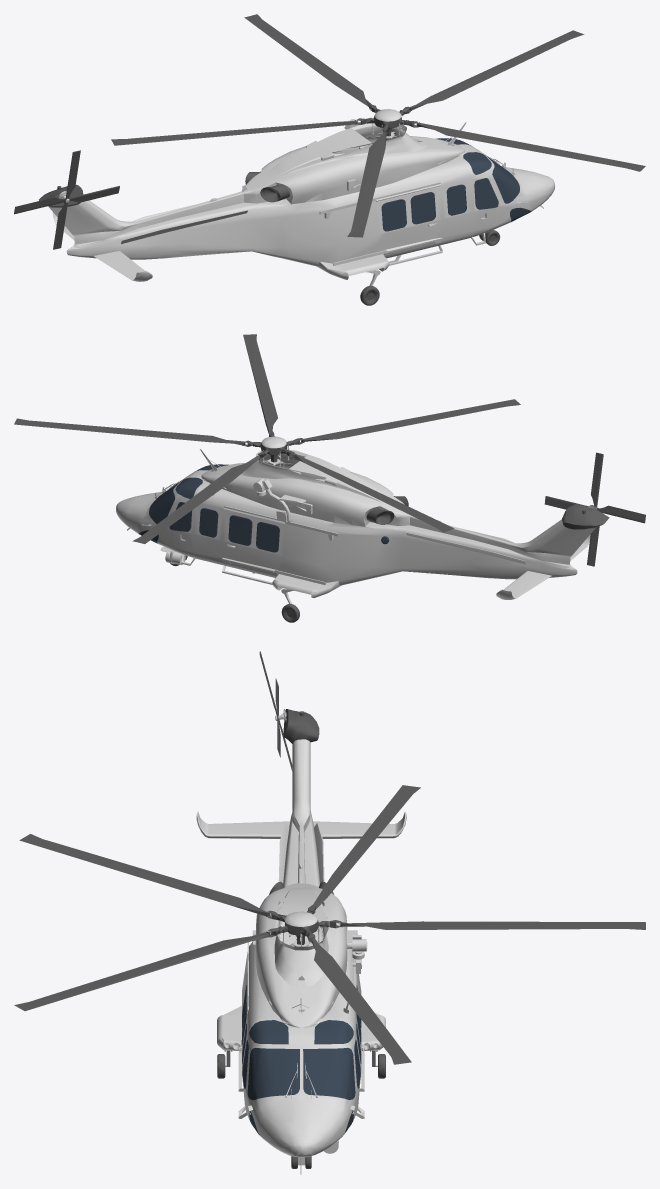
3 views of the same model, one above another, from view 1: azimuth 30°, elevation 25°; view 2: azimuth 150°, elevation 25°; view 3: azimuth 270°, elevation 25° (orthographic). The views are drawn at different scales.
Parts seen in each view (by area): view 1: body, spin (×2), glass, trim; view 2: body, spin (×2), glass, trim; view 3: body, spin (×2), glass, trim.
Part boxes in pixels (left/top/right/bottom): body: left=48, top=109, right=555, bottom=285; spin (×2): left=14, top=14, right=645, bottom=249; glass: left=381, top=138, right=530, bottom=231; trim: left=245, top=171, right=500, bottom=305; body: left=116, top=436, right=596, bottom=603; spin (×2): left=14, top=334, right=645, bottom=566; glass: left=138, top=464, right=389, bottom=552; trim: left=170, top=495, right=408, bottom=622; body: left=196, top=709, right=406, bottom=1174; spin (×2): left=14, top=651, right=645, bottom=1064; glass: left=241, top=921, right=361, bottom=1135; trim: left=217, top=881, right=385, bottom=1168.
Bounding box in the file's own units: 2.2 × 0.7142 × 1.59.
